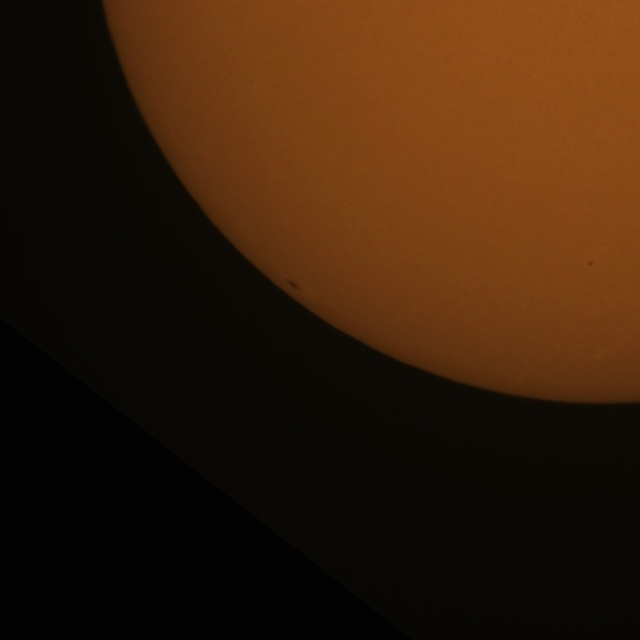sunspot: (586, 260, 594, 267)
